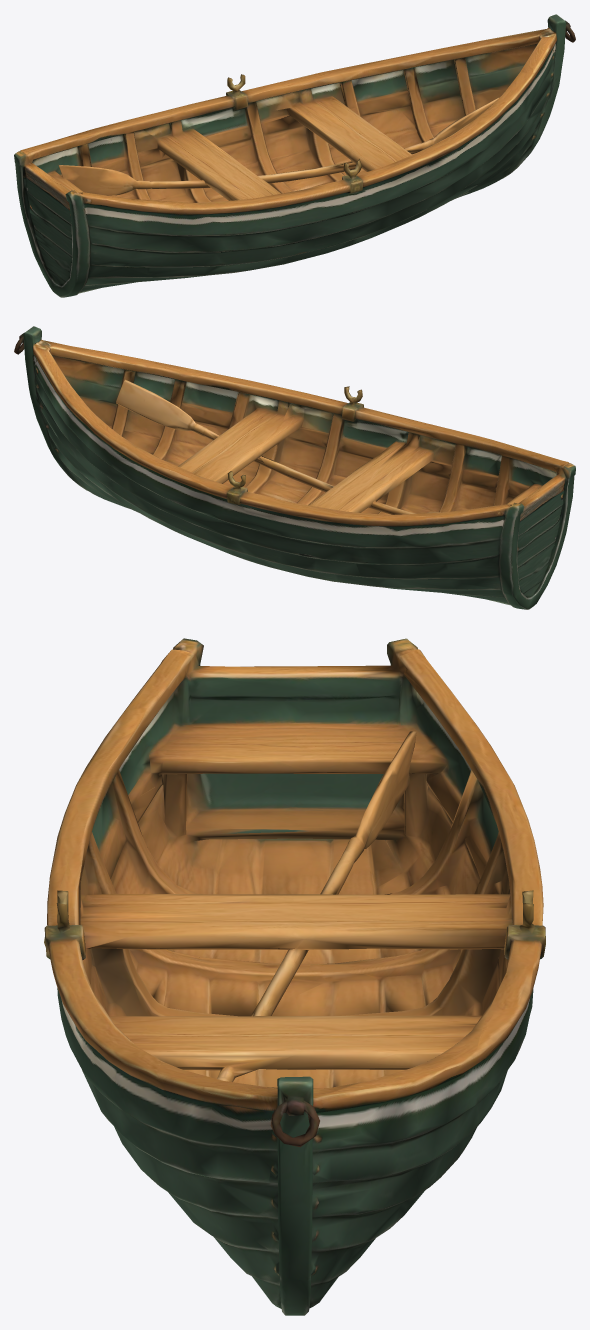
Rendered from boat-row.glb.
3 renders of one model, top to bottom at view 1: azimuth 30°, elevation 25°; view 2: azimuth 150°, elevation 25°; view 3: azimuth 270°, elevation 25°, orthographic. The views are drawn at different scales.
Visible parts, largest first — view 1: tripo_node_87e899d7-4b9e-4c21-8483-38cda79f19da; view 2: tripo_node_87e899d7-4b9e-4c21-8483-38cda79f19da; view 3: tripo_node_87e899d7-4b9e-4c21-8483-38cda79f19da.
Boxes of the visible parts, x1,y1,x2,y2 form: tripo_node_87e899d7-4b9e-4c21-8483-38cda79f19da: (14, 14, 575, 297); tripo_node_87e899d7-4b9e-4c21-8483-38cda79f19da: (14, 326, 575, 609); tripo_node_87e899d7-4b9e-4c21-8483-38cda79f19da: (44, 638, 545, 1315).
Bounding box in the file's own units: 1 × 0.2813 × 0.4091.
Materials: 1 (1 with a texture image).
